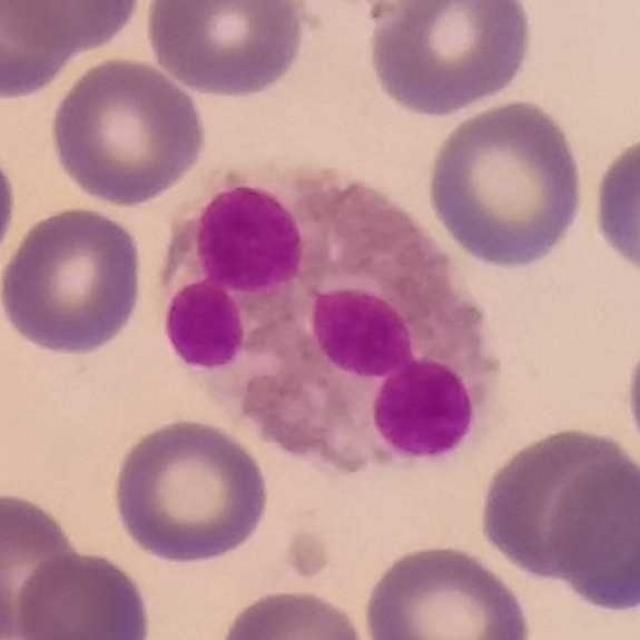eosino: (150, 155, 504, 482)
